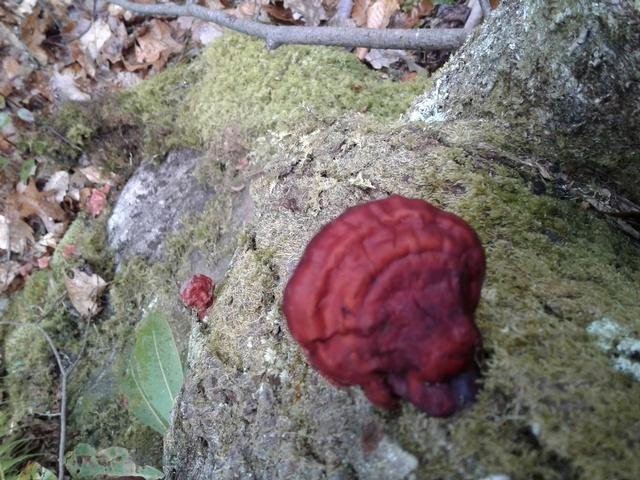Non-edible Mushroom: (281, 193, 487, 417)
